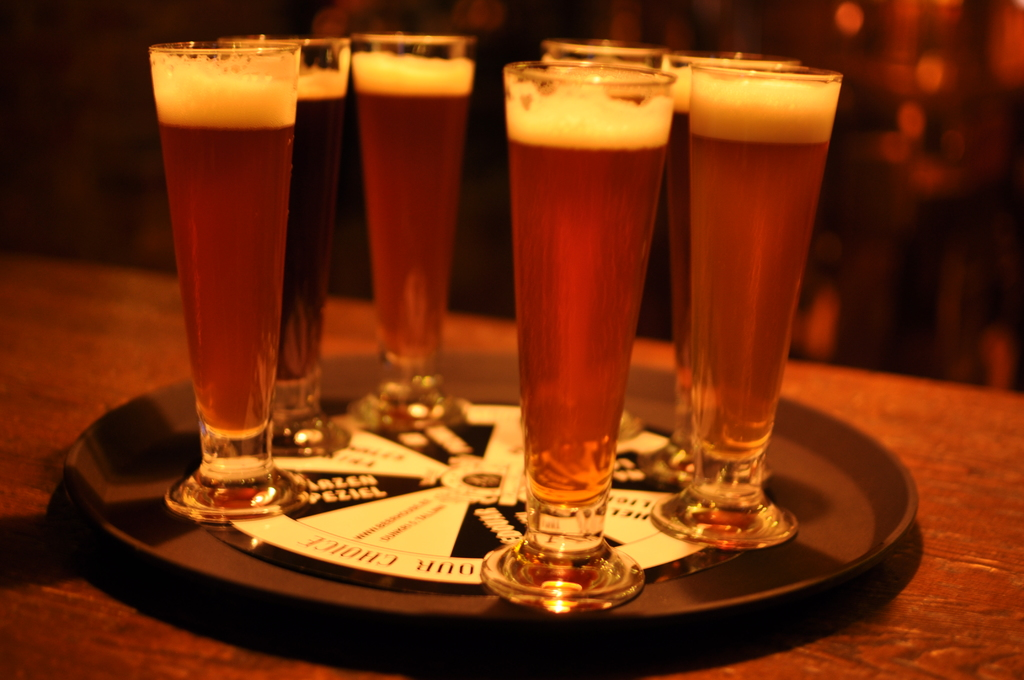Beer: (500, 58, 680, 630), (128, 35, 294, 536), (689, 57, 841, 566), (204, 36, 351, 469), (350, 23, 474, 437)
